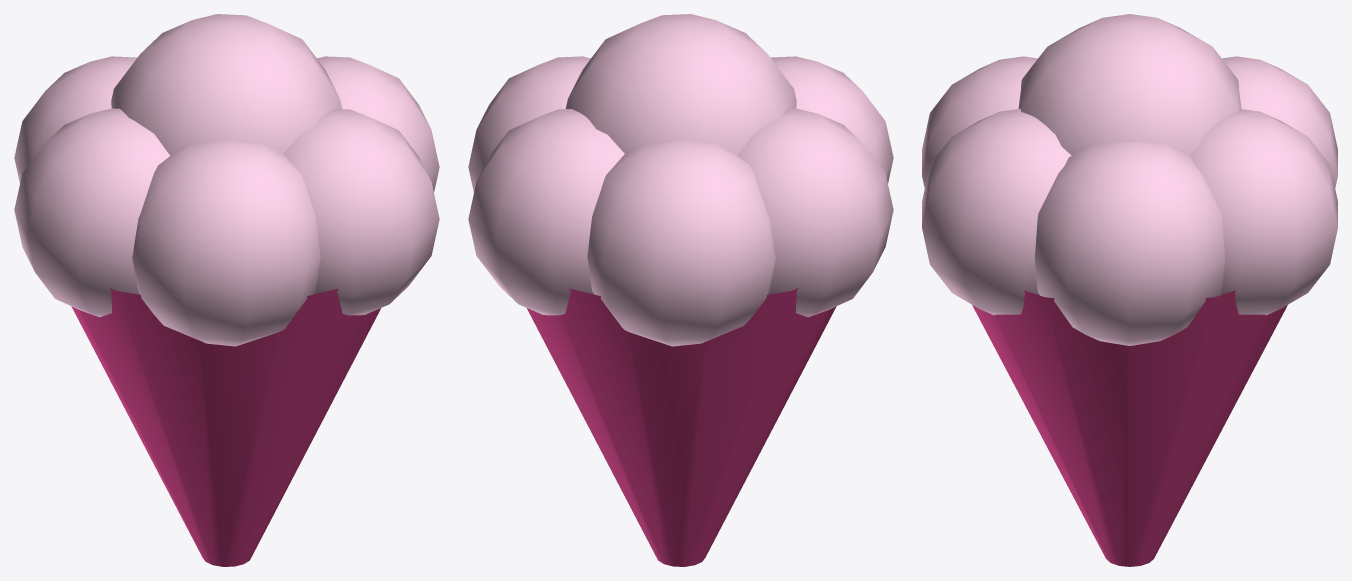
The model's file is bouquet-flowers.glb.
3 renders of one model, left to right at view 1: azimuth 30°, elevation 25°; view 2: azimuth 150°, elevation 25°; view 3: azimuth 270°, elevation 25°, orthographic.
Parts seen in each view (by area): view 1: RootAsset; view 2: RootAsset; view 3: RootAsset.
Boxes of the visible parts, x1=… form: RootAsset: x1=14, y1=14, x2=439, y2=566; RootAsset: x1=468, y1=14, x2=893, y2=566; RootAsset: x1=922, y1=14, x2=1337, y2=566.
Size of the model in its own units: 0.56 by 0.715 by 0.5071.
